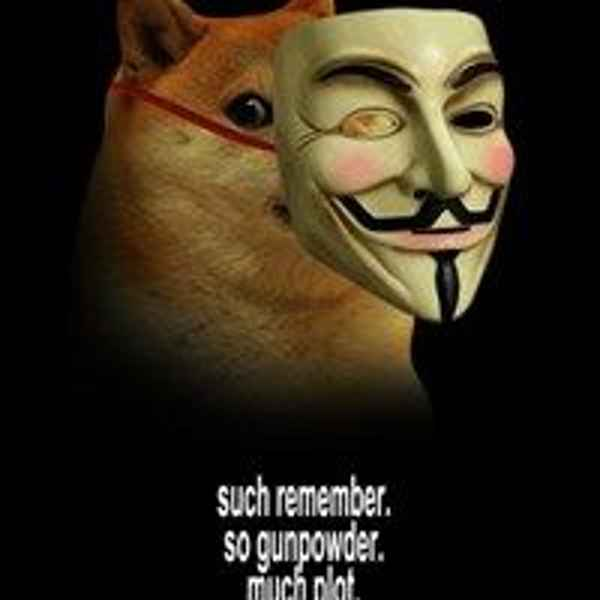doge: (114, 9, 323, 305)
